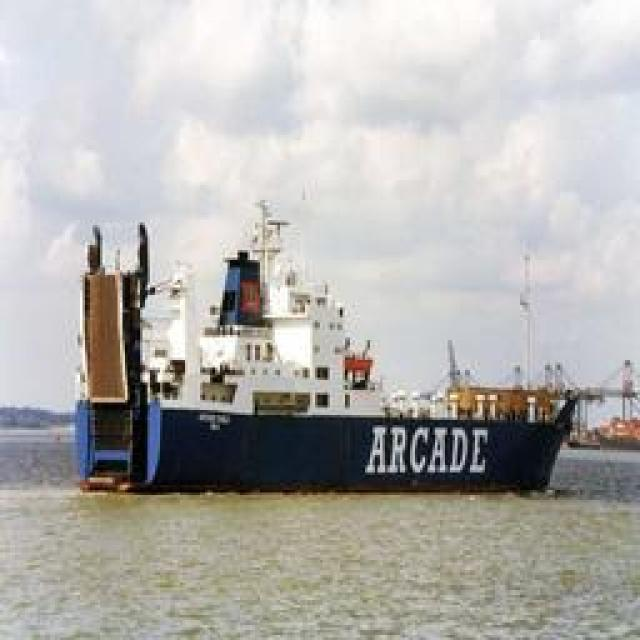ship2: (73, 199, 576, 494)
